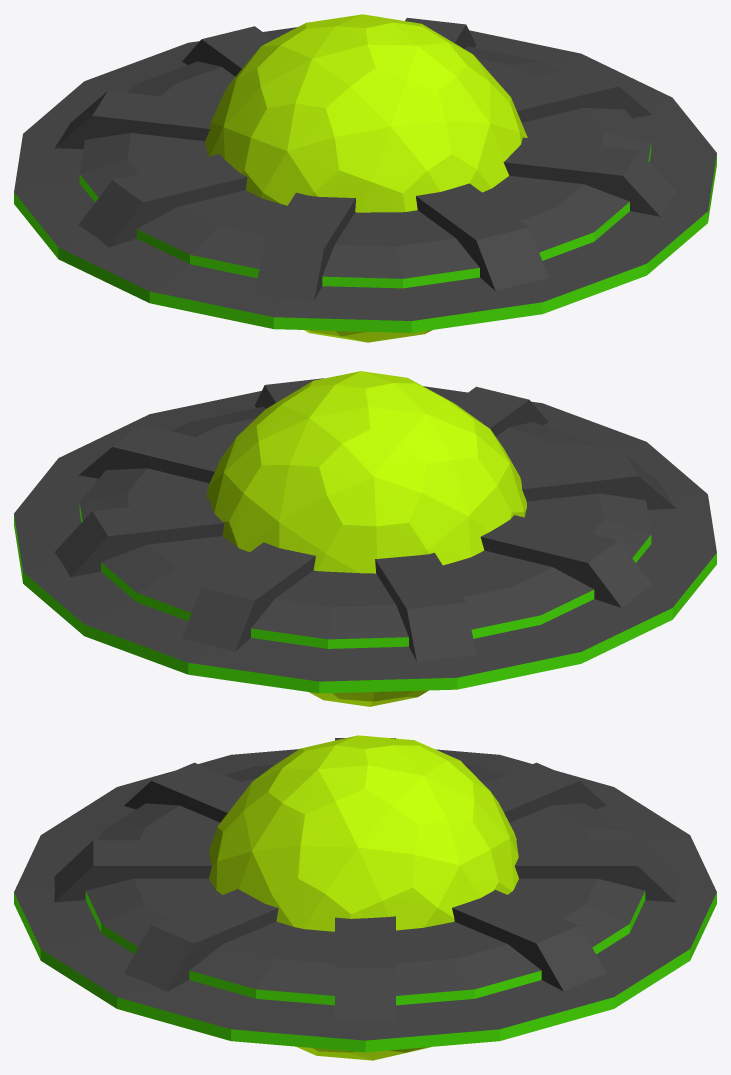
The model's file is UFO.fbx.
3 views of the same model, one above another, from view 1: azimuth 30°, elevation 25°; view 2: azimuth 150°, elevation 25°; view 3: azimuth 270°, elevation 25° (orthographic).
Visible parts, largest first — view 1: pPipe1; view 2: pPipe1; view 3: pPipe1.
Part boxes in pixels (x1=…): pPipe1: x1=14, y1=14, x2=716, y2=342; pPipe1: x1=14, y1=371, x2=716, y2=706; pPipe1: x1=14, y1=735, x2=716, y2=1060.
Bounding box in the file's own units: 301 × 141 × 301.
